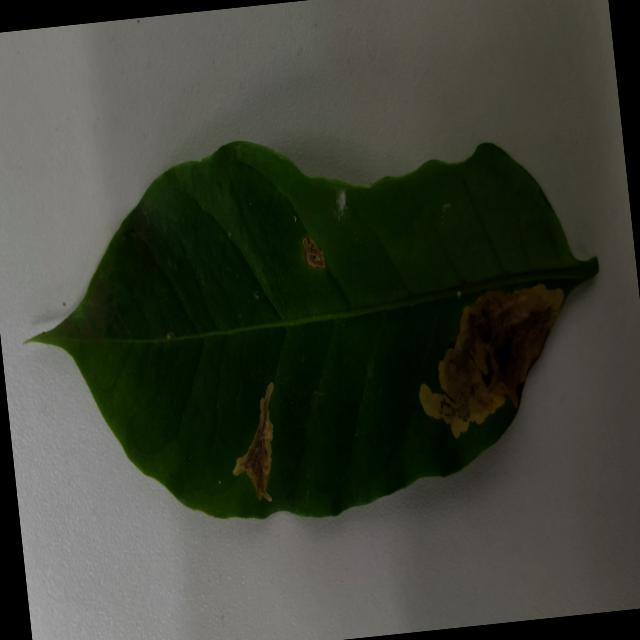KaratDaunKopi: (419, 284, 562, 438), (233, 382, 273, 501), (302, 237, 325, 268)
